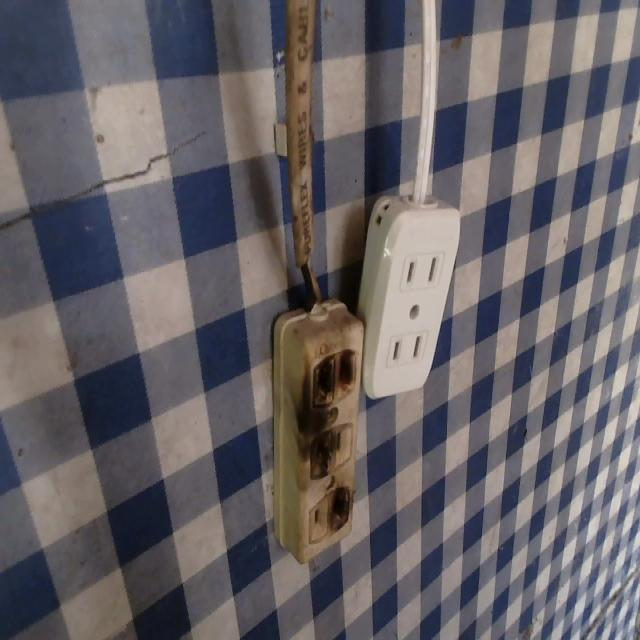-: (303, 336, 366, 405), (301, 425, 341, 480), (327, 481, 361, 539)
